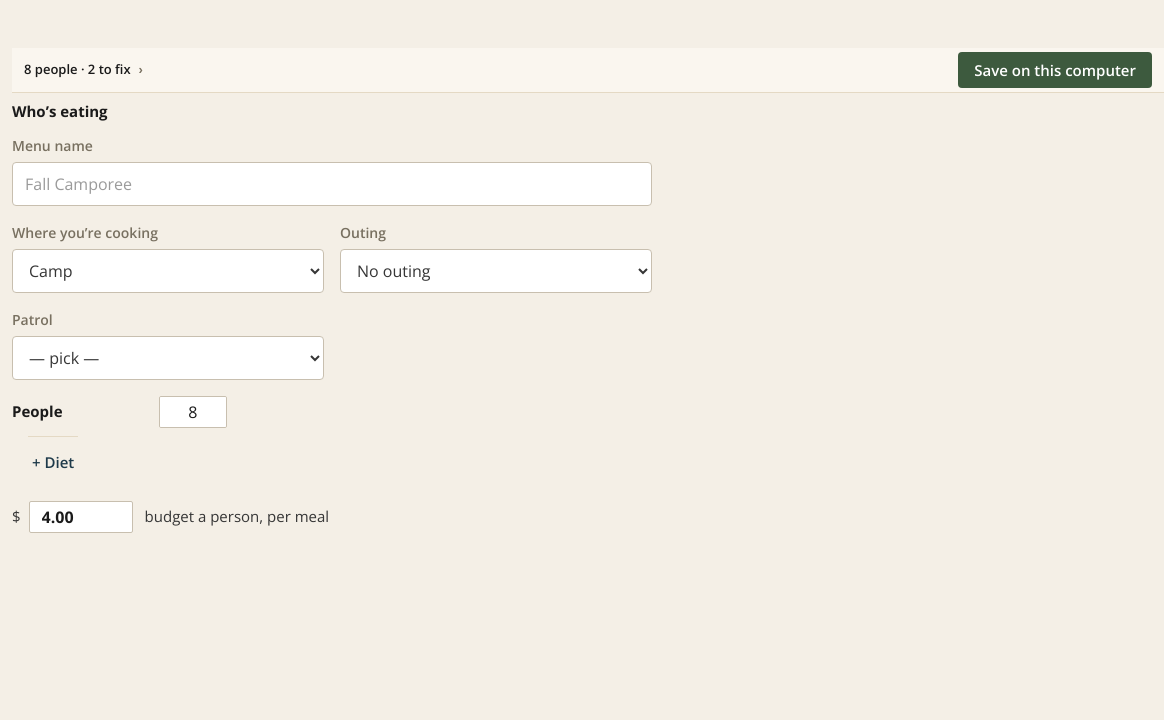
Test case: LocalPlan › Visitor_StaysOnThePage_AfterTheFirstSave
In the field labelled "Menu name": (332, 184) [12, 162, 652, 206], type "Winter Camp"
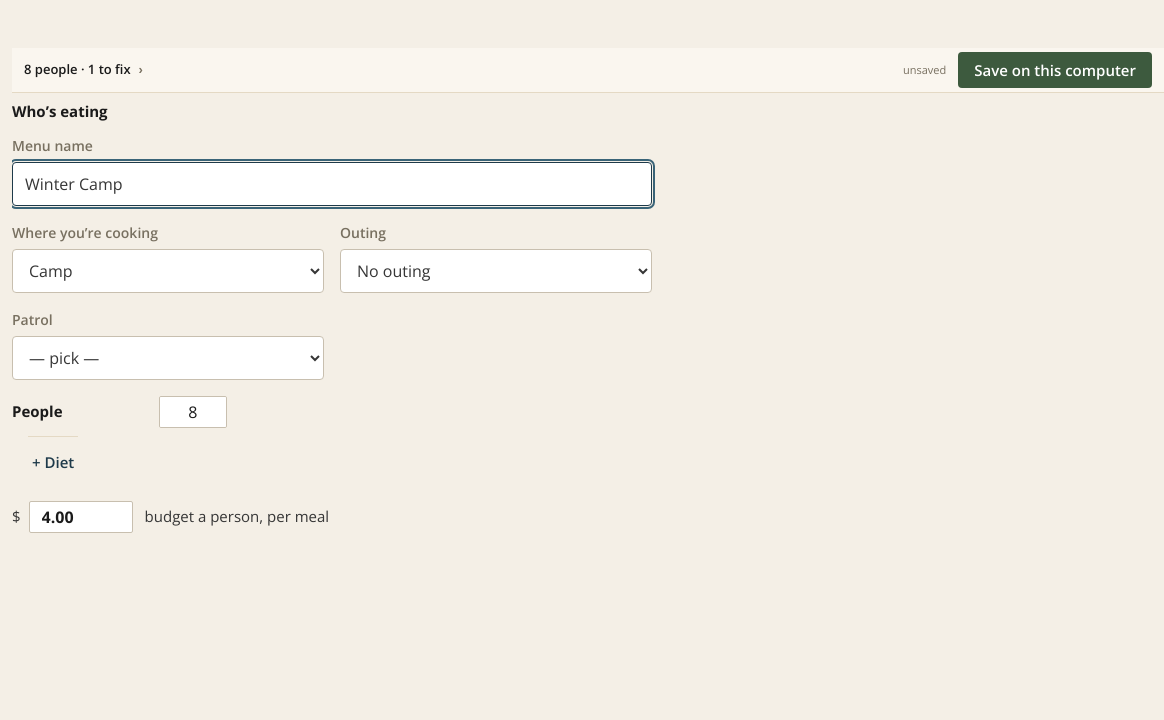
Click the button "Save on this computer": (1055, 70) [958, 52, 1152, 88]
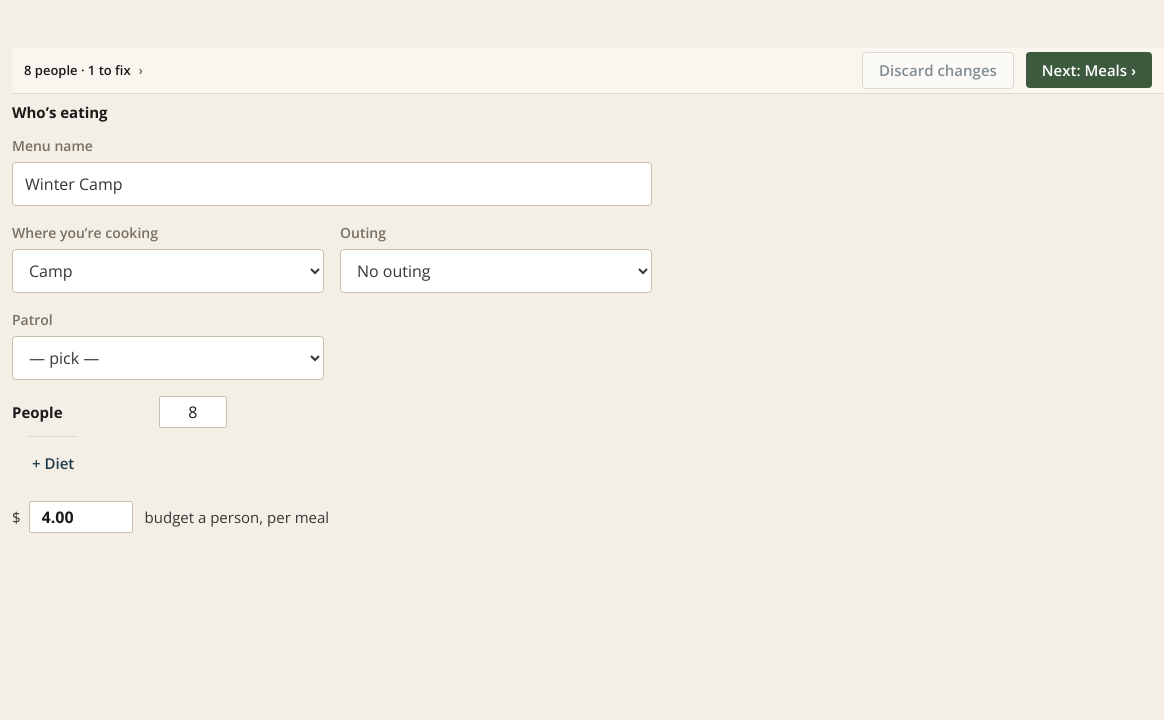
Now the link "Next: Meals ›" is shown, box [1026, 52, 1152, 88]
